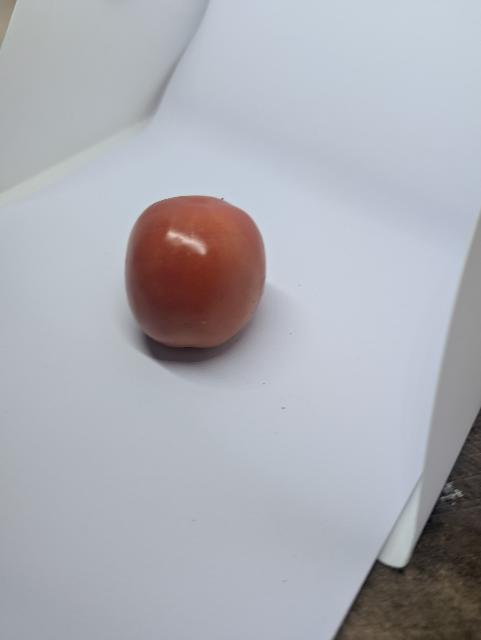red: (113, 189, 282, 358)
